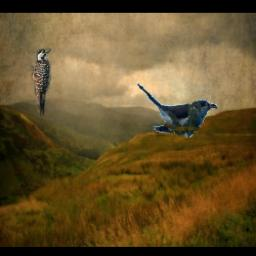Cuckoo: (135, 81, 218, 138)
Woodpecker: (27, 49, 51, 120)
